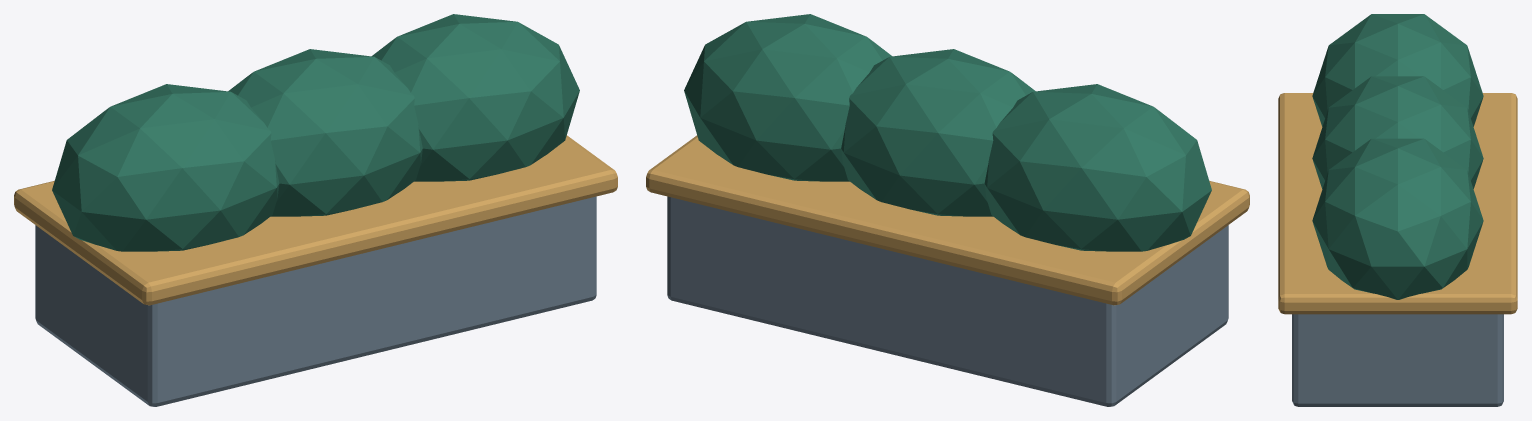
The model's file is SM_Planter.fbx.
The picture shows the model from 3 angles, left to right: view 1: azimuth 30°, elevation 25°; view 2: azimuth 150°, elevation 25°; view 3: azimuth 270°, elevation 25°; orthographic projection. The views are drawn at different scales.
Visible parts, largest first — view 1: SM_Planter; view 2: SM_Planter; view 3: SM_Planter.
Boxes of the visible parts, x1,y1,x2,y2 form: SM_Planter: [14, 14, 617, 406]; SM_Planter: [646, 14, 1249, 406]; SM_Planter: [1278, 14, 1517, 406].
Bounding box in the file's own units: 278 × 130 × 135.
